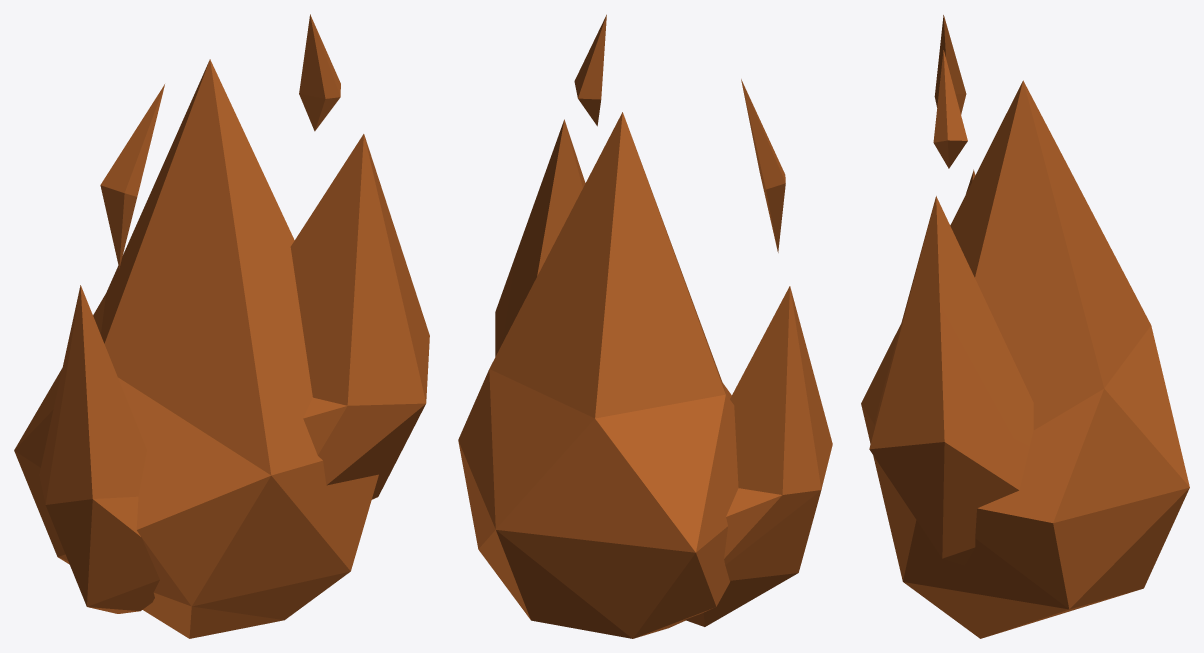
Rendered from fire.fbx.
3 views of the same model, side by side, from view 1: azimuth 30°, elevation 25°; view 2: azimuth 150°, elevation 25°; view 3: azimuth 270°, elevation 25° (orthographic). The views are drawn at different scales.
Parts seen in each view (by area): view 1: Bonfire_Fire; view 2: Bonfire_Fire; view 3: Bonfire_Fire.
Part boxes in pixels (left/top/right/bottom): Bonfire_Fire: left=14, top=14, right=429, bottom=638; Bonfire_Fire: left=458, top=14, right=832, bottom=638; Bonfire_Fire: left=861, top=15, right=1189, bottom=638.
Size of the model in its own units: 141 by 227 by 113.
